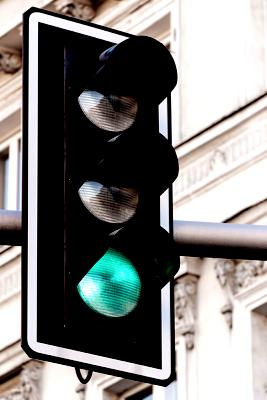International Road Signal Light: (19, 9, 178, 380)
